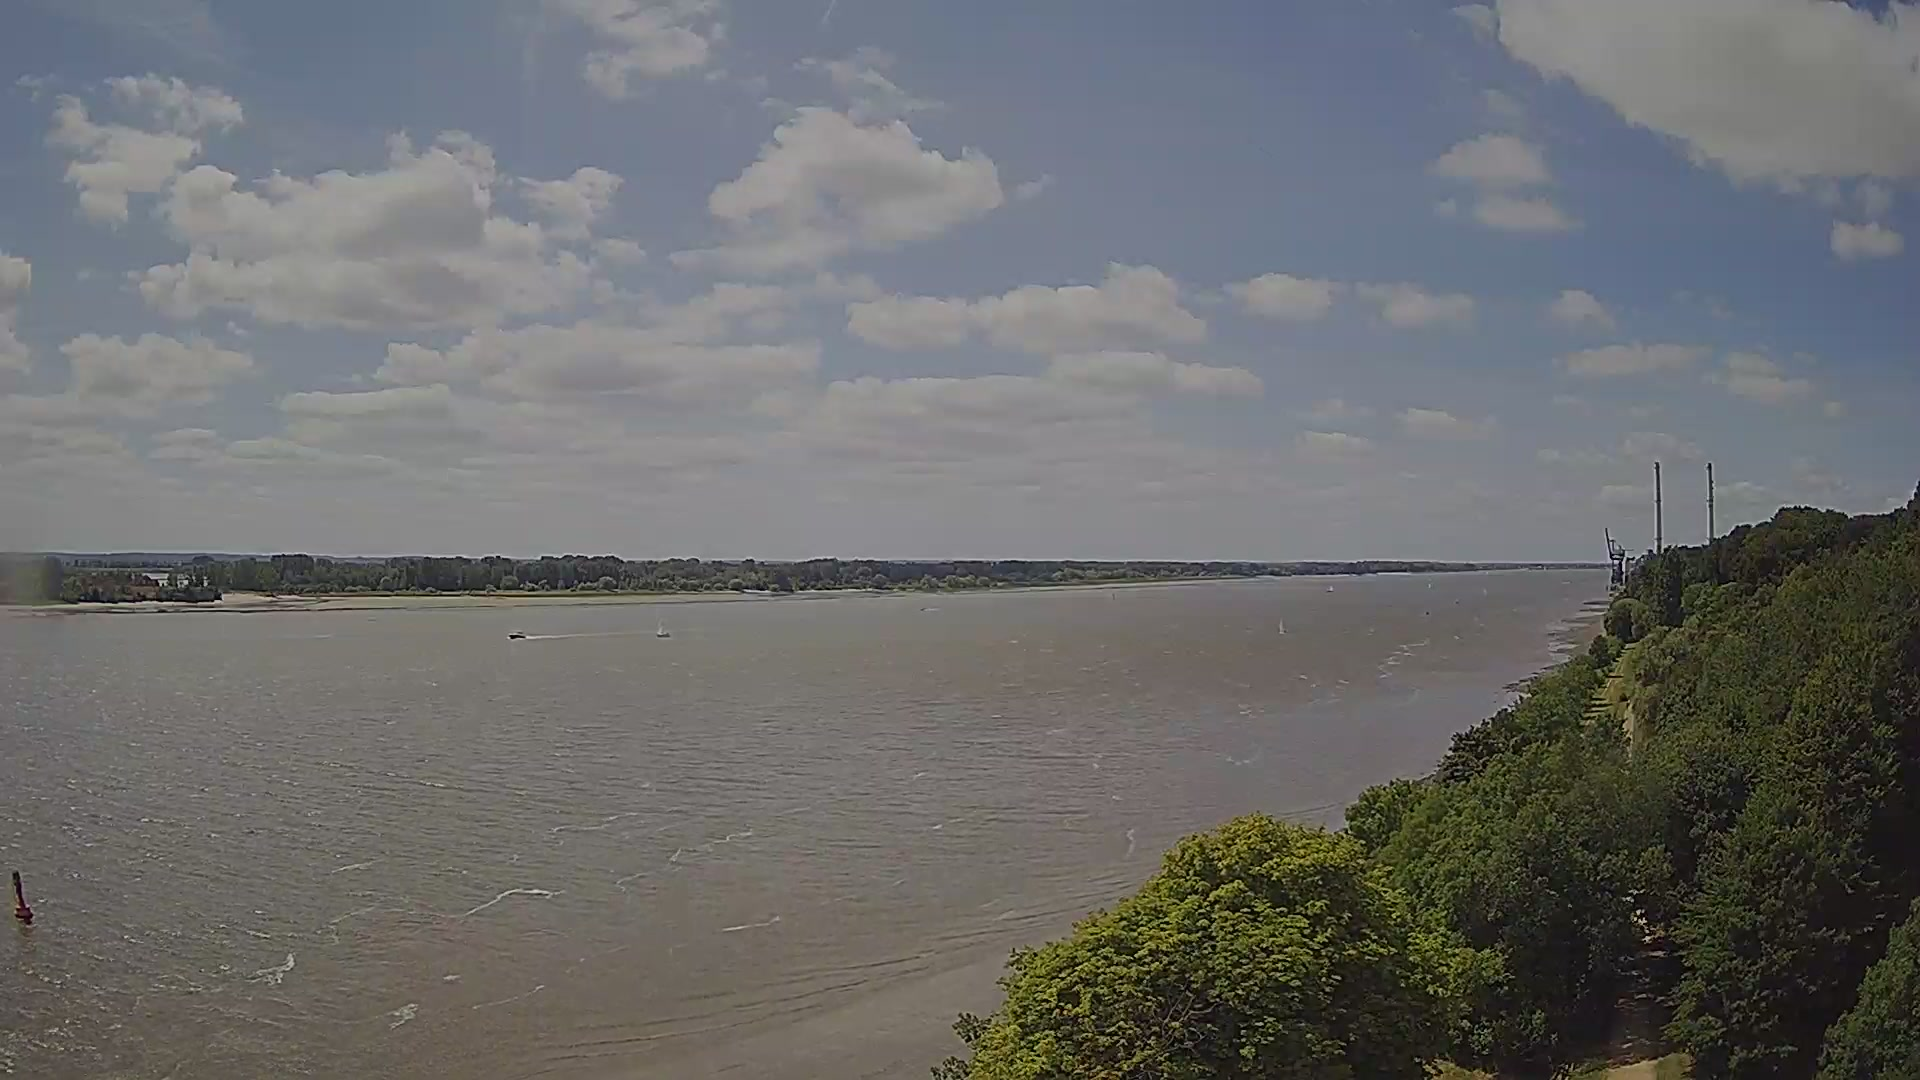sea: (655, 617, 671, 636), (1276, 615, 1288, 634), (508, 630, 526, 638), (1325, 584, 1333, 592), (918, 605, 927, 611)
